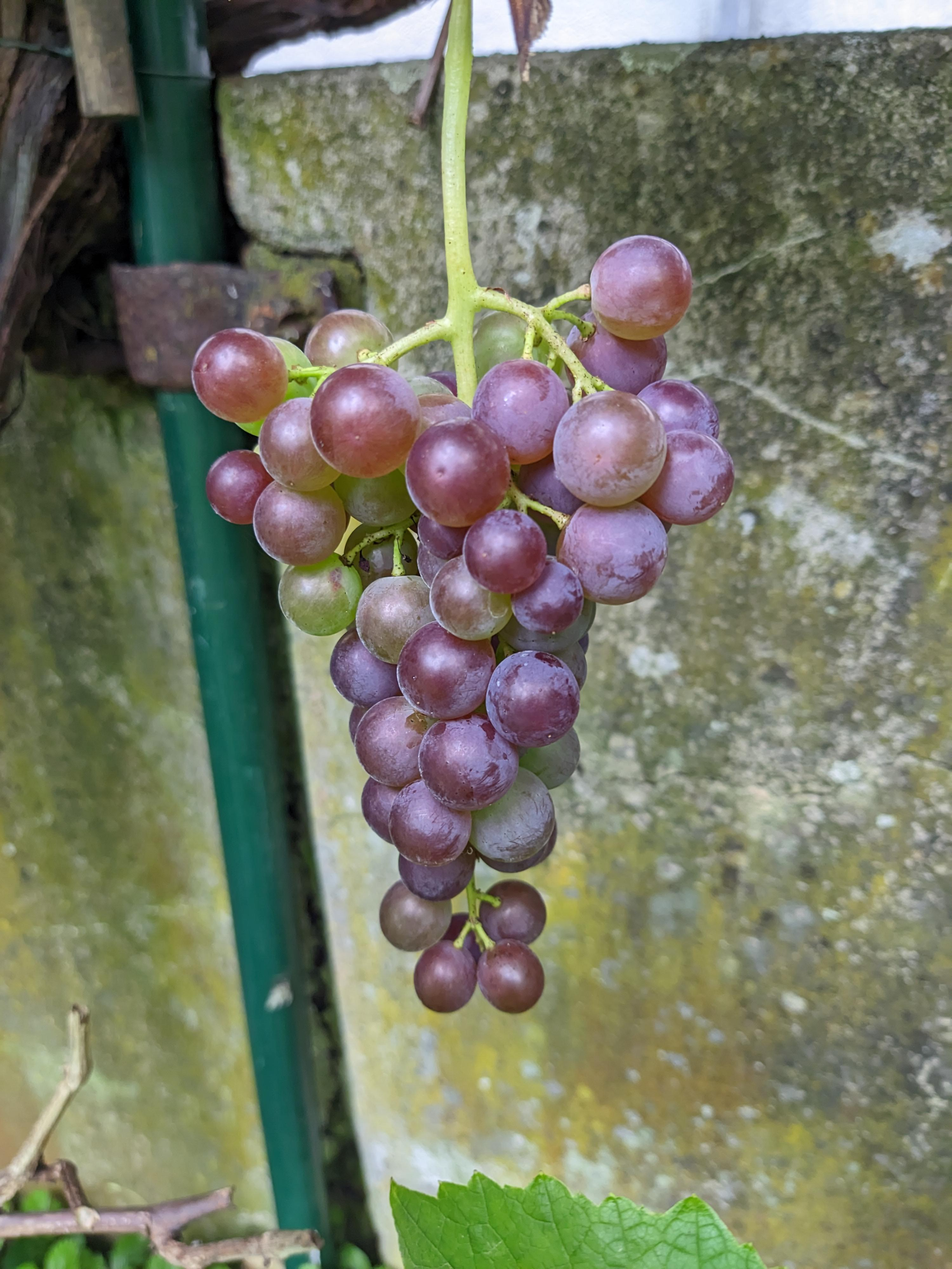Grape Unripe: (192, 234, 732, 1019)
